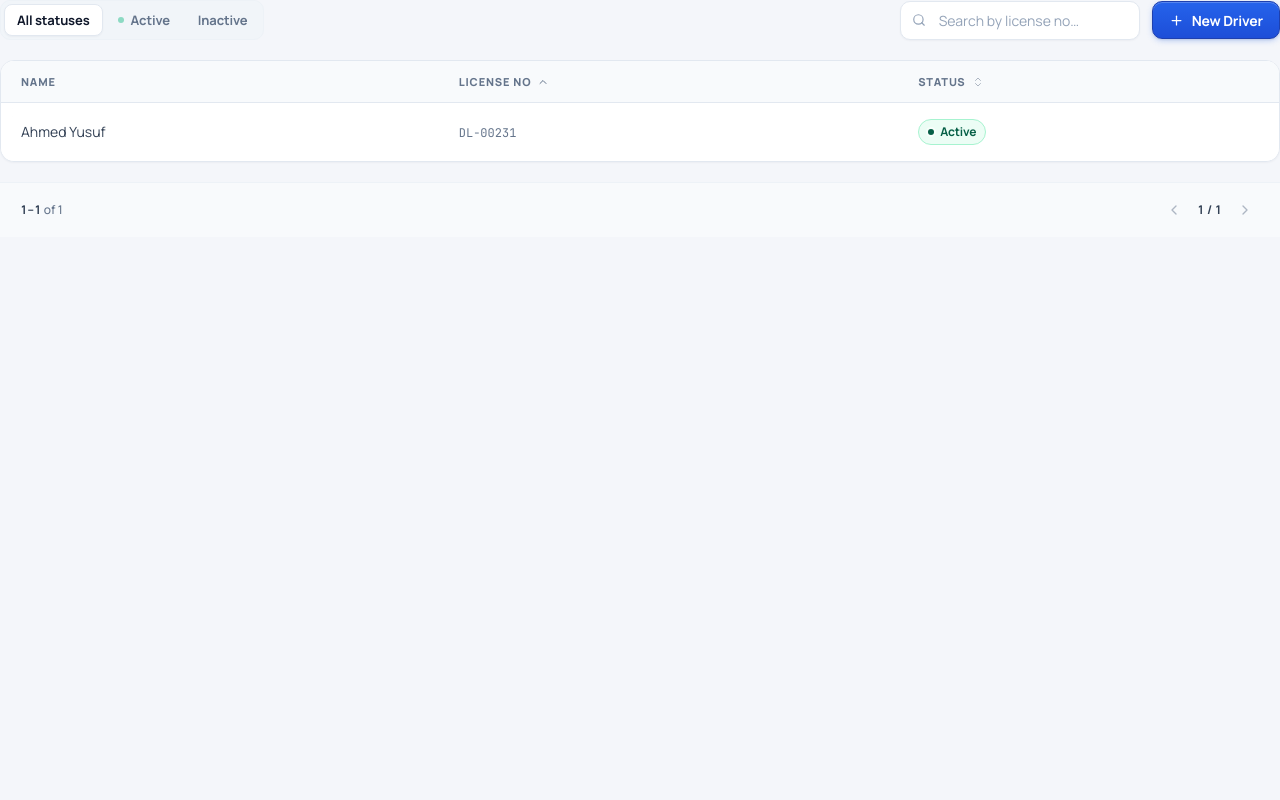
Test: DriversPage › opens the detail drawer and fetches the full driver record for the richer fields
Click the text "DL-00231": (488,133) top-left (459, 125), bottom-right (516, 141)
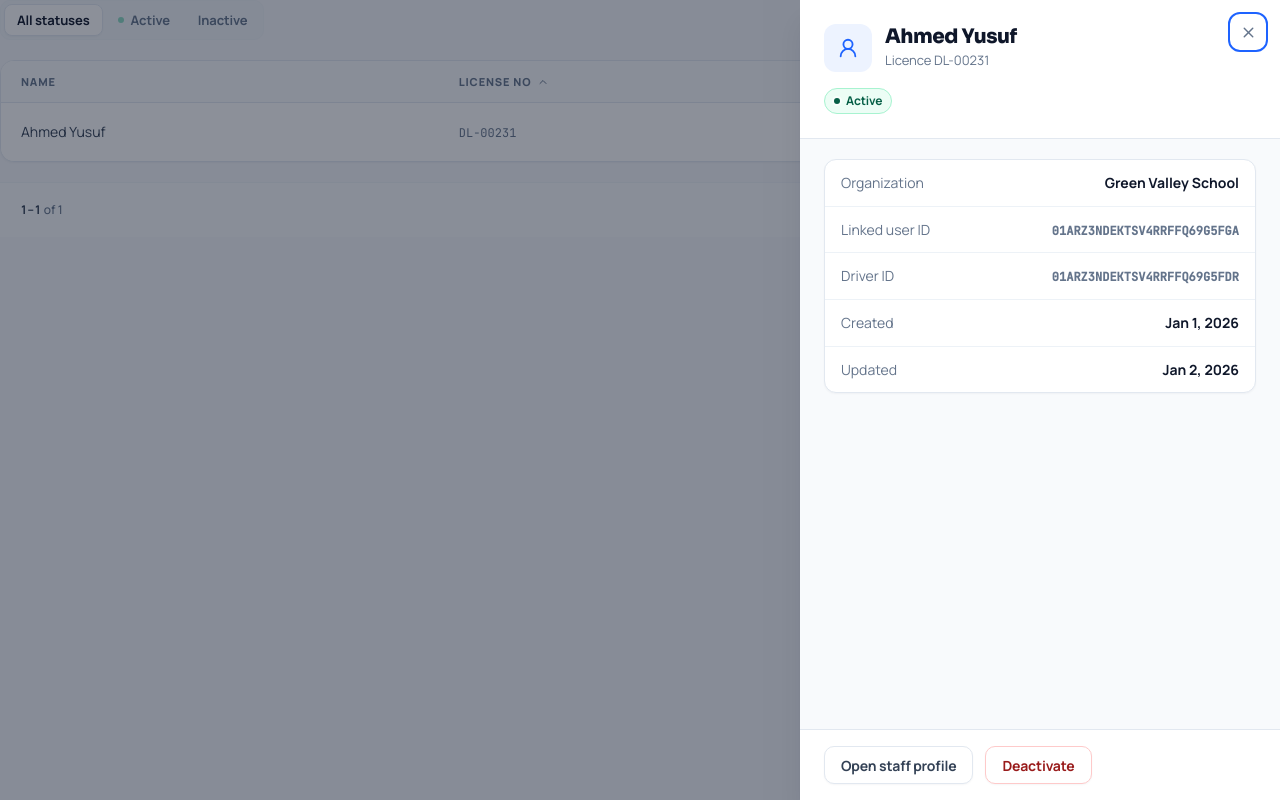
Expected: the text "Green Valley School" is shown, top-left (1105, 172), bottom-right (1239, 194)
